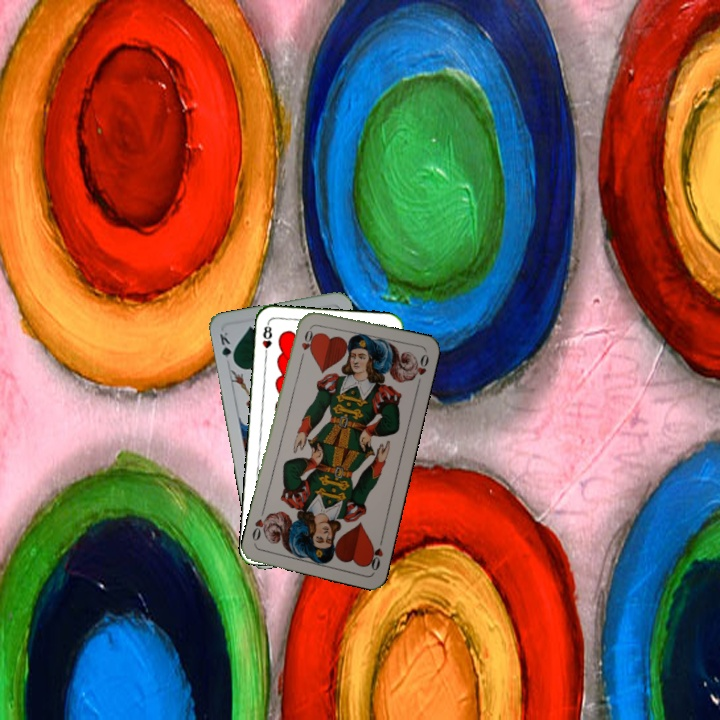GK: (215, 328, 237, 366)
H8: (258, 319, 274, 360)
HO: (364, 534, 386, 573), (297, 323, 315, 363)
